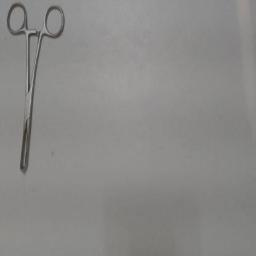Allis Tissue Forceps: (4, 0, 70, 178)
